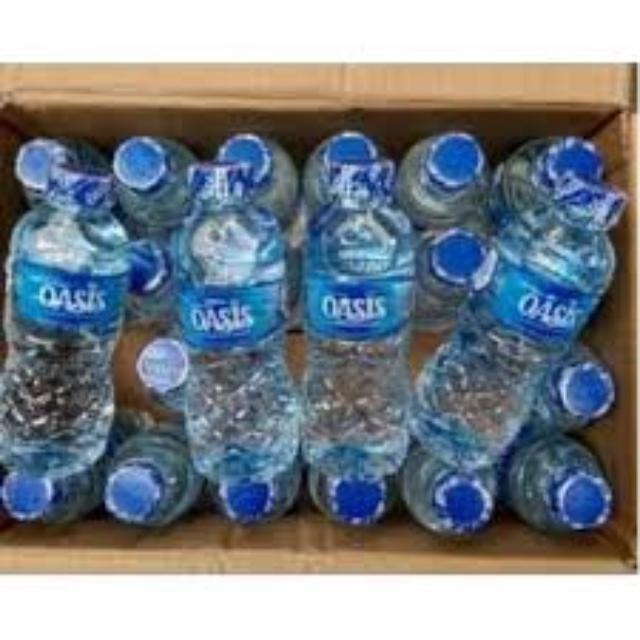trash: (403, 174, 633, 468), (172, 161, 302, 483), (0, 165, 130, 481), (299, 156, 419, 480), (501, 432, 617, 534), (0, 426, 106, 528), (102, 426, 200, 528), (392, 130, 496, 224), (402, 226, 500, 324), (401, 446, 502, 538), (114, 136, 206, 228), (10, 131, 110, 215), (204, 446, 306, 528), (502, 132, 606, 212), (205, 134, 301, 218), (531, 340, 619, 430), (298, 134, 394, 216), (305, 453, 401, 527), (120, 232, 190, 322), (135, 324, 199, 420)
